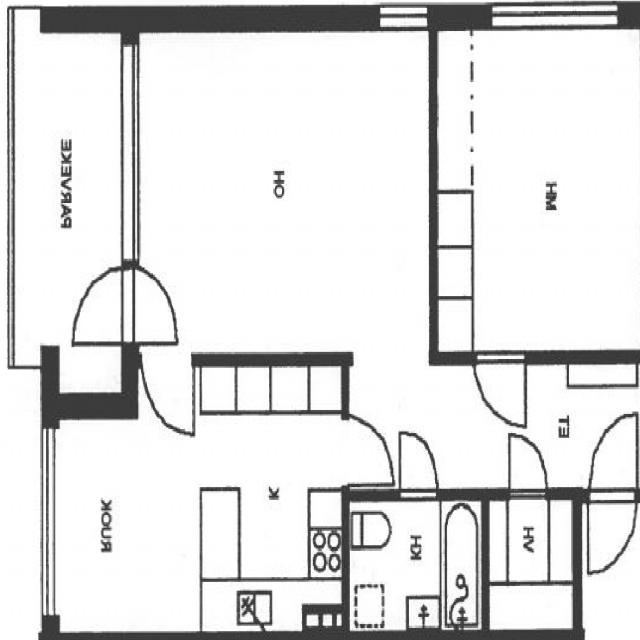door: (70, 268, 140, 343), (121, 268, 190, 343), (474, 351, 526, 439), (142, 351, 194, 439), (588, 487, 638, 574), (588, 416, 638, 502), (343, 416, 396, 484), (509, 431, 548, 499), (400, 432, 437, 499)
